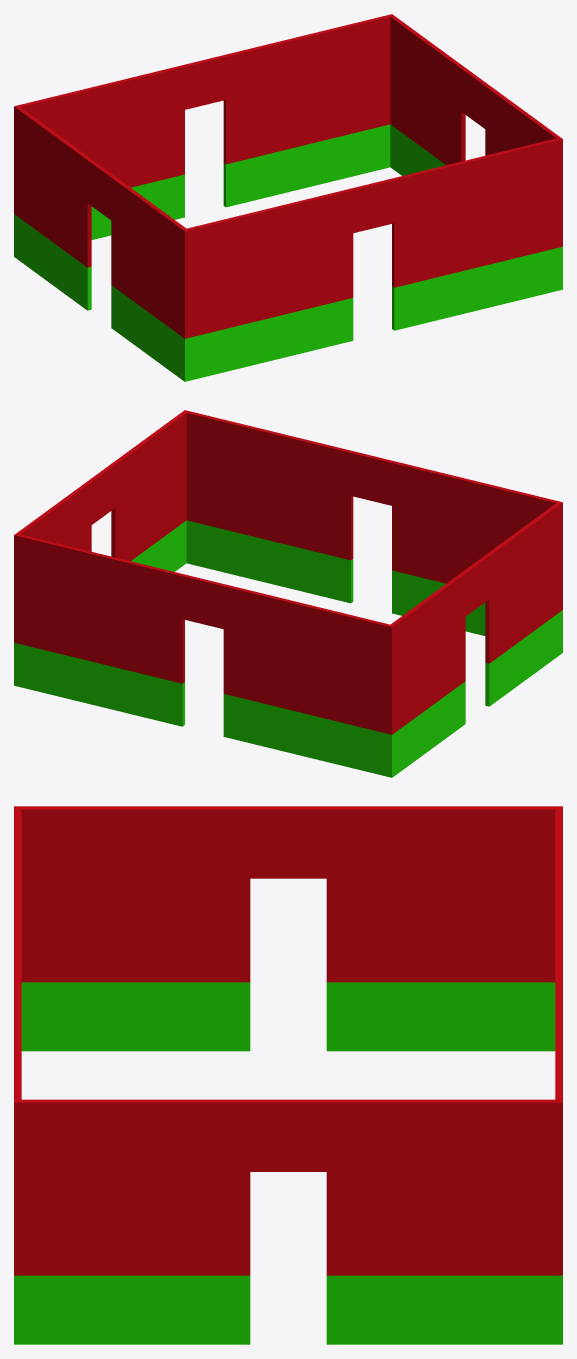
The model's file is Room.fbx.
The picture shows the model from 3 angles, top to bottom: view 1: azimuth 30°, elevation 25°; view 2: azimuth 150°, elevation 25°; view 3: azimuth 270°, elevation 25°; orthographic projection. The views are drawn at different scales.
Parts seen in each view (by area): view 1: Room_1_High, Room_4_High, Room_3_High, Room_1_Low, Room_2_High, Room_4_Low, Room_3_Low, Room_2_Low; view 2: Room_4_High, Room_1_High, Room_3_High, Room_4_Low, Room_2_High, Room_1_Low, Room_3_Low, Room_2_Low; view 3: Room_2_High, Room_3_High, Room_2_Low, Room_3_Low, Room_1_High, Room_4_High.
Part boxes in pixels (x1,y1,x2,y2): Room_1_High: [182, 137, 562, 338]; Room_4_High: [14, 14, 393, 214]; Room_3_High: [16, 107, 185, 336]; Room_1_Low: [182, 246, 562, 381]; Room_2_High: [390, 16, 560, 164]; Room_4_Low: [14, 124, 390, 257]; Room_3_Low: [16, 216, 182, 379]; Room_2_Low: [390, 124, 445, 175]; Room_4_High: [14, 533, 394, 734]; Room_1_High: [183, 410, 562, 610]; Room_3_High: [391, 503, 560, 732]; Room_4_Low: [14, 642, 394, 777]; Room_2_High: [16, 412, 186, 560]; Room_1_Low: [186, 520, 562, 653]; Room_3_Low: [394, 612, 560, 775]; Room_2_Low: [131, 520, 186, 571]; Room_2_High: [21, 1099, 555, 1275]; Room_3_High: [21, 806, 555, 982]; Room_2_Low: [21, 1275, 555, 1344]; Room_3_Low: [21, 982, 555, 1051]; Room_1_High: [14, 806, 21, 1275]; Room_4_High: [555, 806, 562, 1275].
Size of the model in its own units: 7.2 by 9.2 by 3.5.
